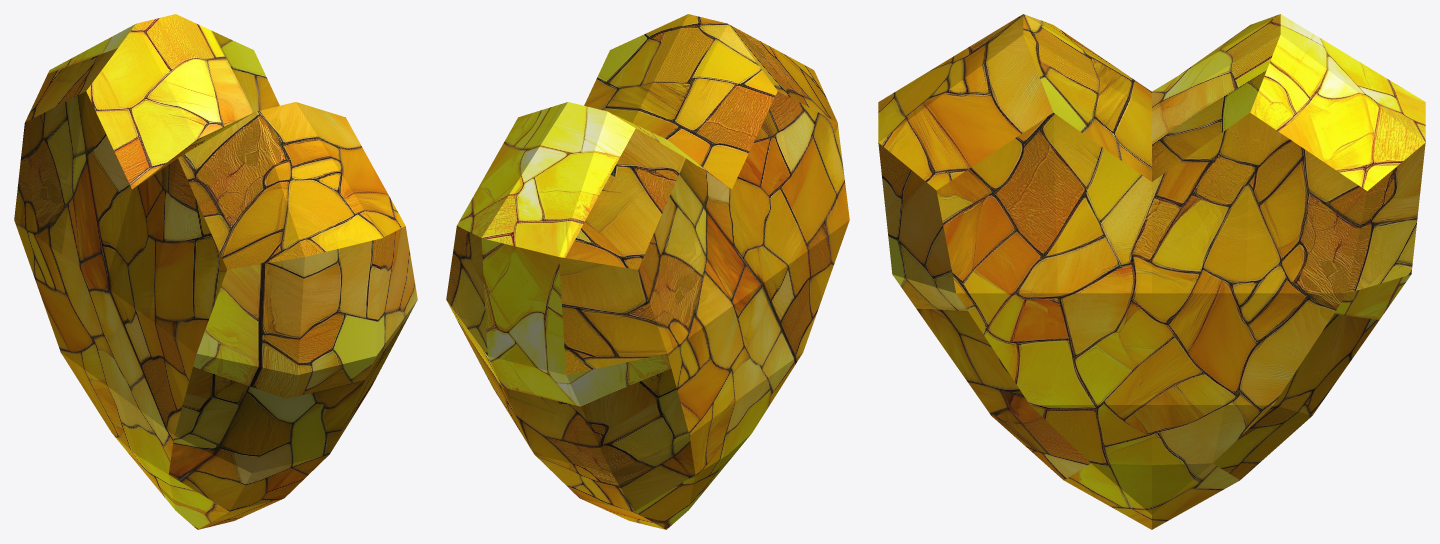
Rendered from gemstone1Yellow.glb.
3 views of the same model, side by side, from view 1: azimuth 30°, elevation 25°; view 2: azimuth 150°, elevation 25°; view 3: azimuth 270°, elevation 25° (orthographic). The views are drawn at different scales.
Visible parts, largest first — view 1: geamstoneHeart; view 2: geamstoneHeart; view 3: geamstoneHeart.
Part boxes in pixels (<box>): geamstoneHeart: <box>14,14,417,529</box>; geamstoneHeart: <box>446,14,849,529</box>; geamstoneHeart: <box>878,14,1425,529</box>.
Size of the model in its own units: 0.5 by 1 by 1.
1 material, 1 textured.
